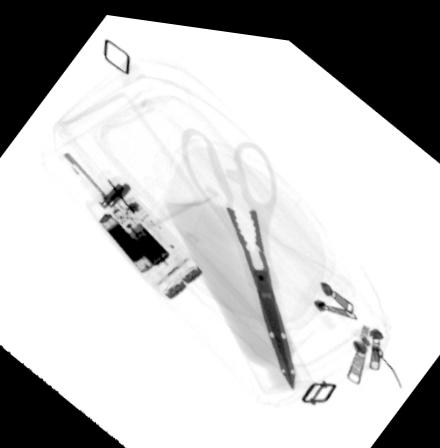Scissors: (178, 120, 296, 385)
